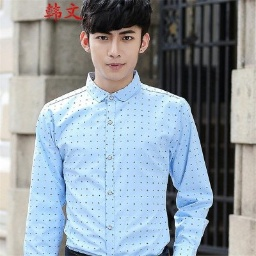face: (77, 1, 154, 81)
